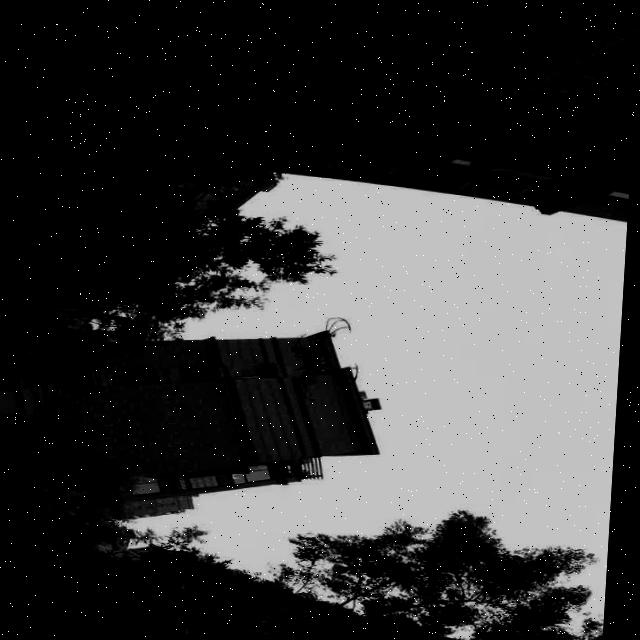drone: (267, 308, 369, 394)
